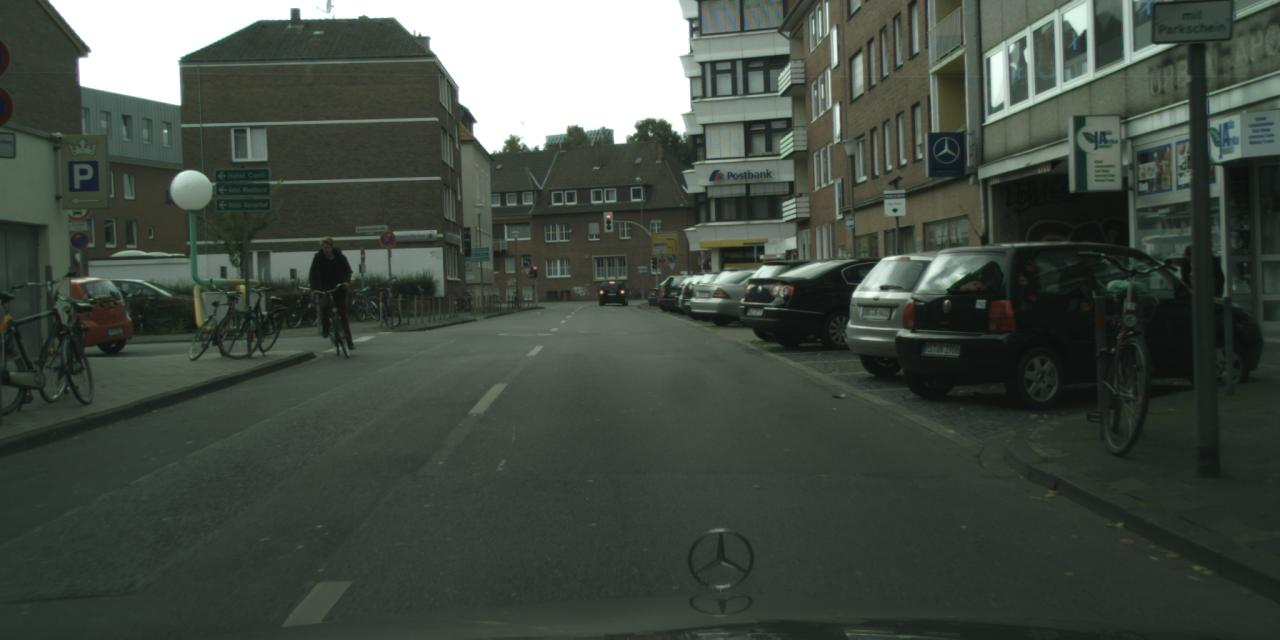ped: (311, 236, 354, 341)
